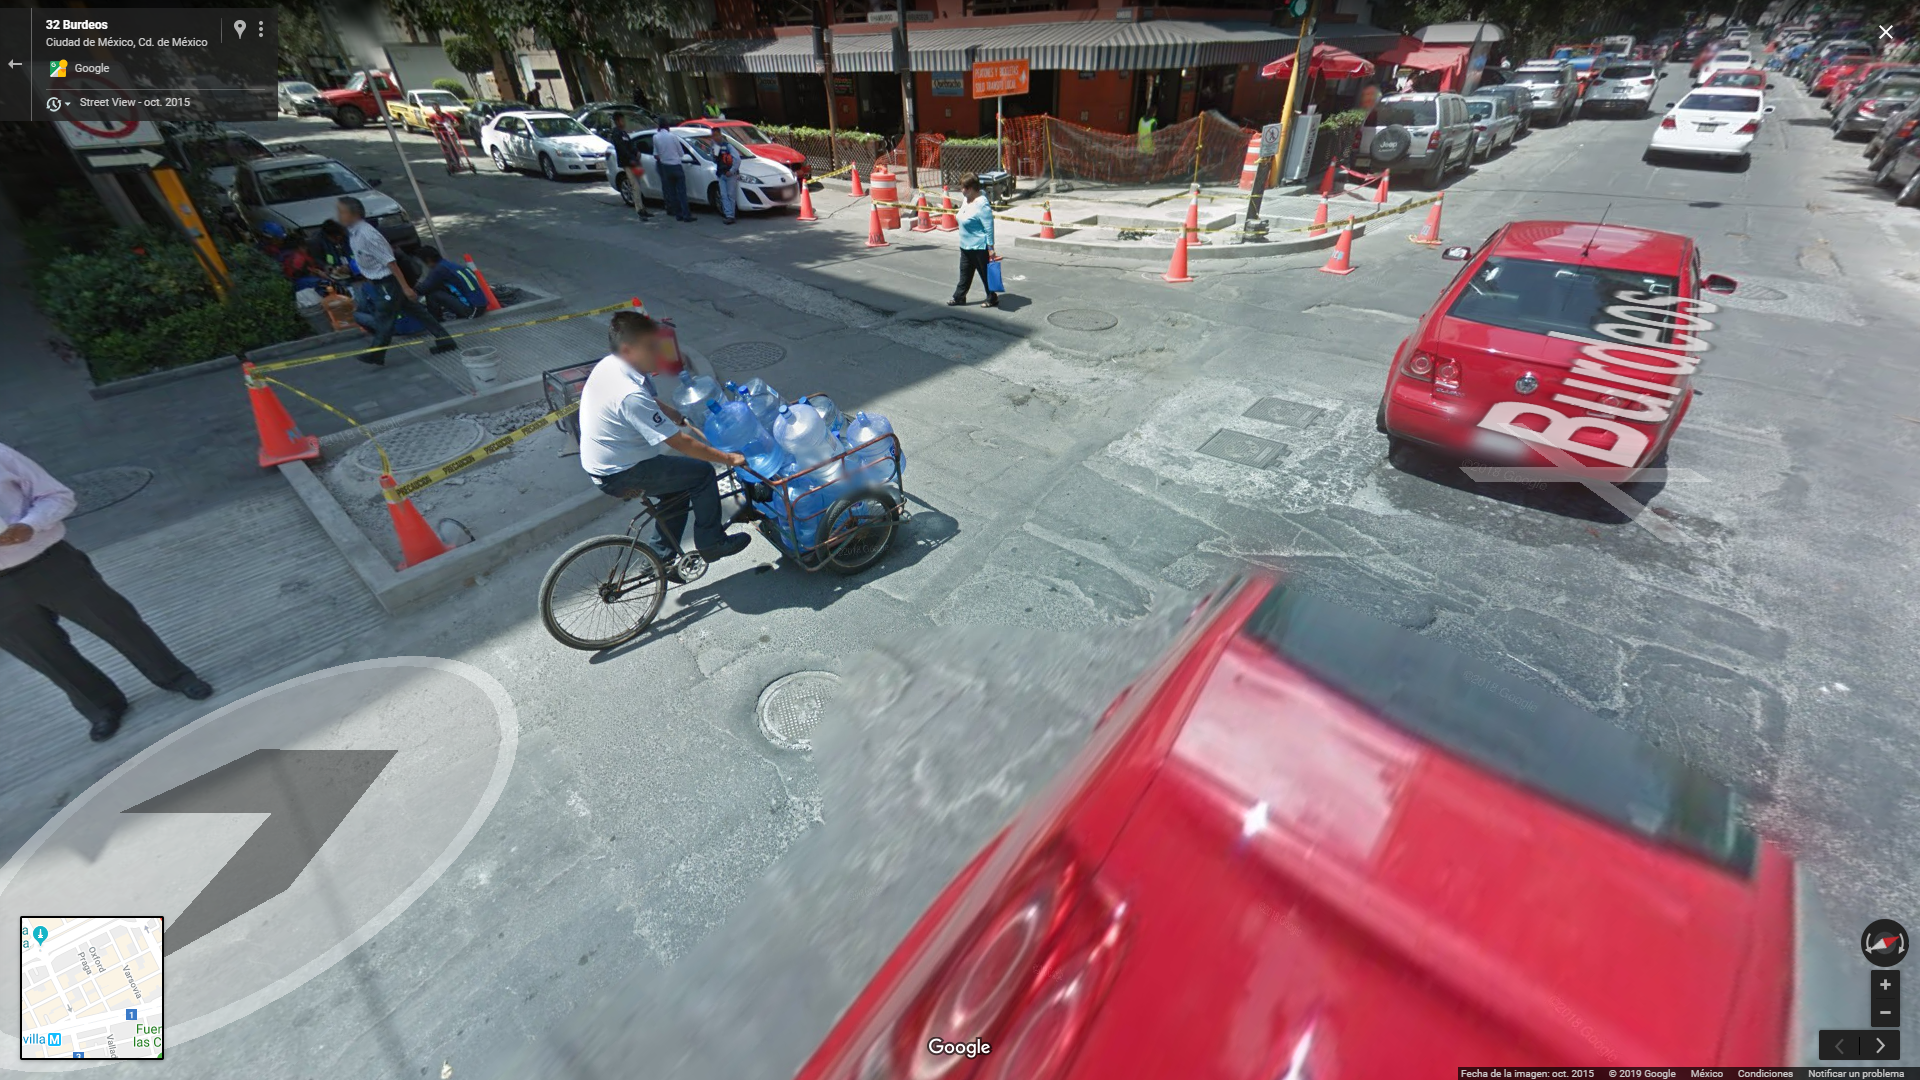pothole: (905, 313, 1101, 406), (686, 251, 898, 324)
